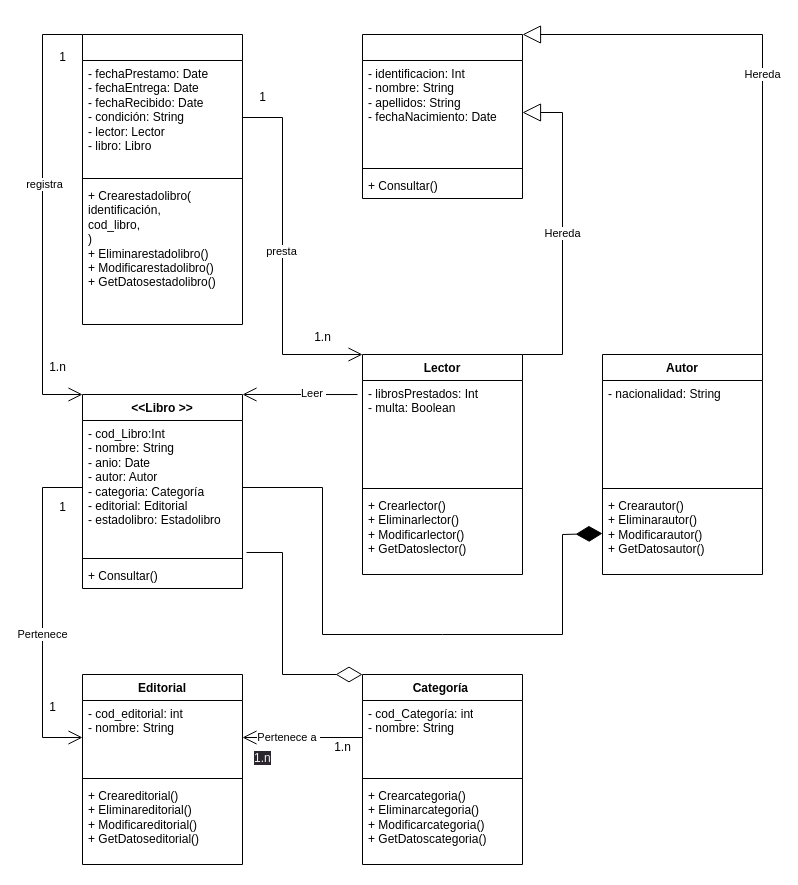
The diagram is 798 pixels wide and 885 high, and some of its shapes have lost their labels. Here are the shapes that lost their labels. From the top down, the box of each, then its label:
(362, 34, 522, 198): <<Persona>>
(82, 34, 242, 324): Prestamos
